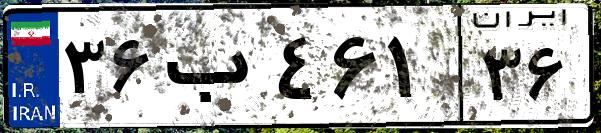1: (385, 28, 445, 110)
3: (57, 26, 110, 100), (475, 38, 525, 113)
4: (270, 28, 330, 110)
6: (330, 28, 385, 110), (525, 38, 570, 115), (110, 28, 158, 98)
ب: (158, 20, 270, 120)
